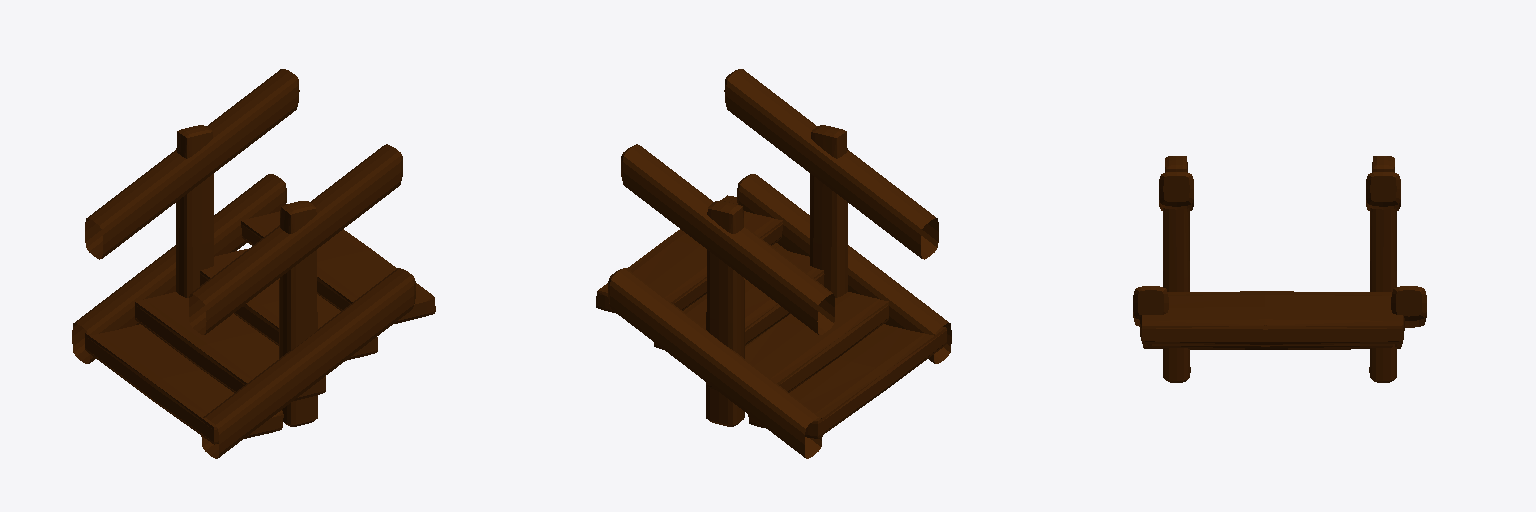
The model's file is Stairs_Modular_End.obj.
The picture shows the model from 3 angles: view 1: azimuth 30°, elevation 25°; view 2: azimuth 150°, elevation 25°; view 3: azimuth 270°, elevation 25°; orthographic projection.
Visible parts, largest first — view 1: Stairs_Modular_End_Cube.061; view 2: Stairs_Modular_End_Cube.061; view 3: Stairs_Modular_End_Cube.061.
Part boxes in pixels (x1,y1,x2,y2): Stairs_Modular_End_Cube.061: (72, 69, 435, 458); Stairs_Modular_End_Cube.061: (596, 69, 951, 458); Stairs_Modular_End_Cube.061: (1133, 156, 1426, 382).
Bounding box in the file's own units: 2.26 × 2.42 × 2.56.